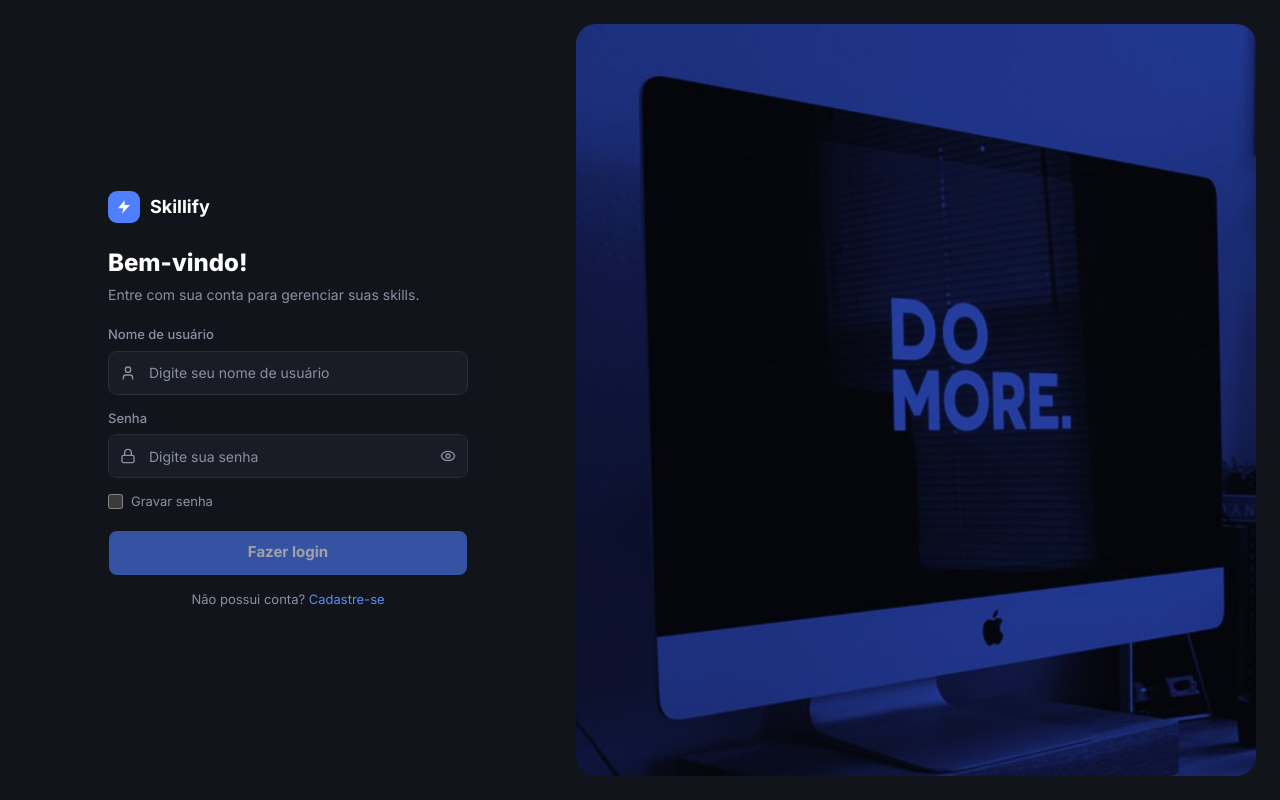
Scenario: Gestão de skills › exclui uma skill após confirmação
This screenshot has width=1280, height=800.
Type "joao" into the field with id "usuario" at (288, 373), box [108,351,468,395]
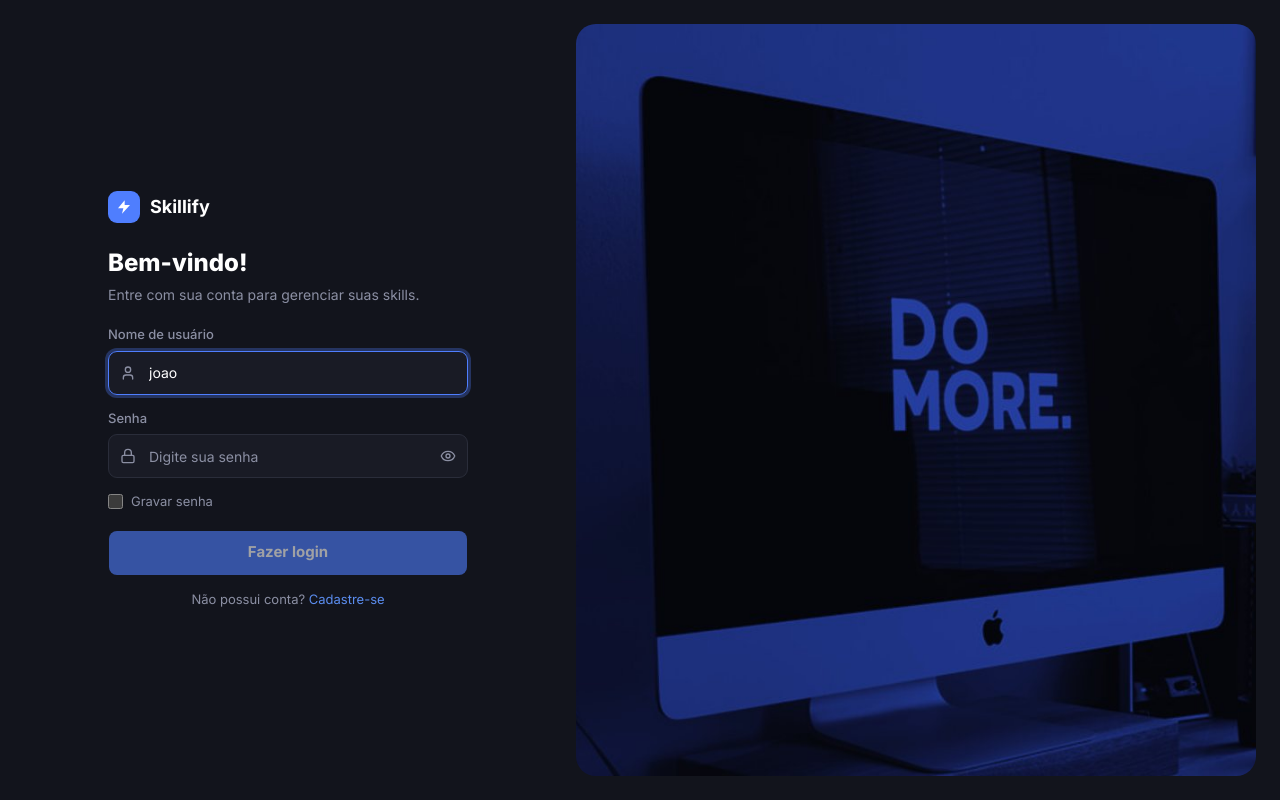
Type "1234" into the password field with id "senha" at (288, 456), box [108,434,468,478]
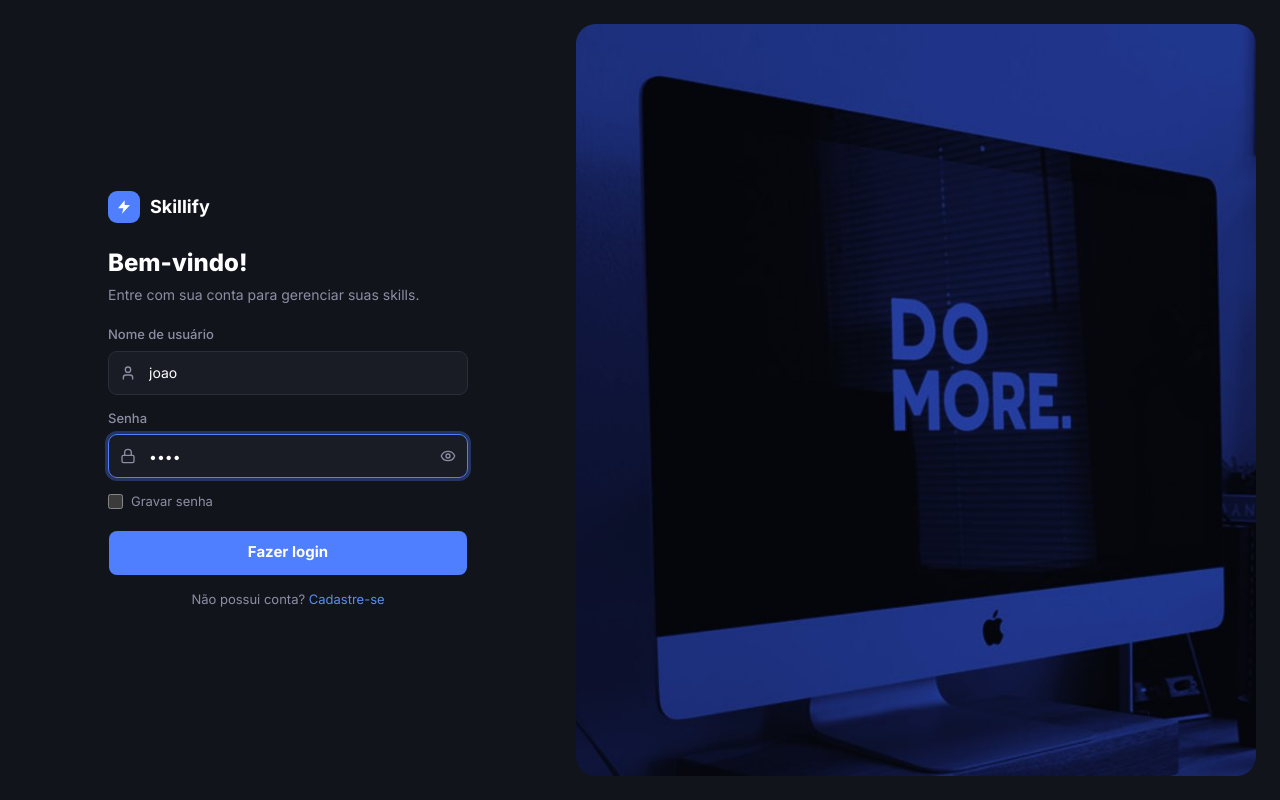
Click the button "Fazer login" at (288, 553), box [108,530,468,576]
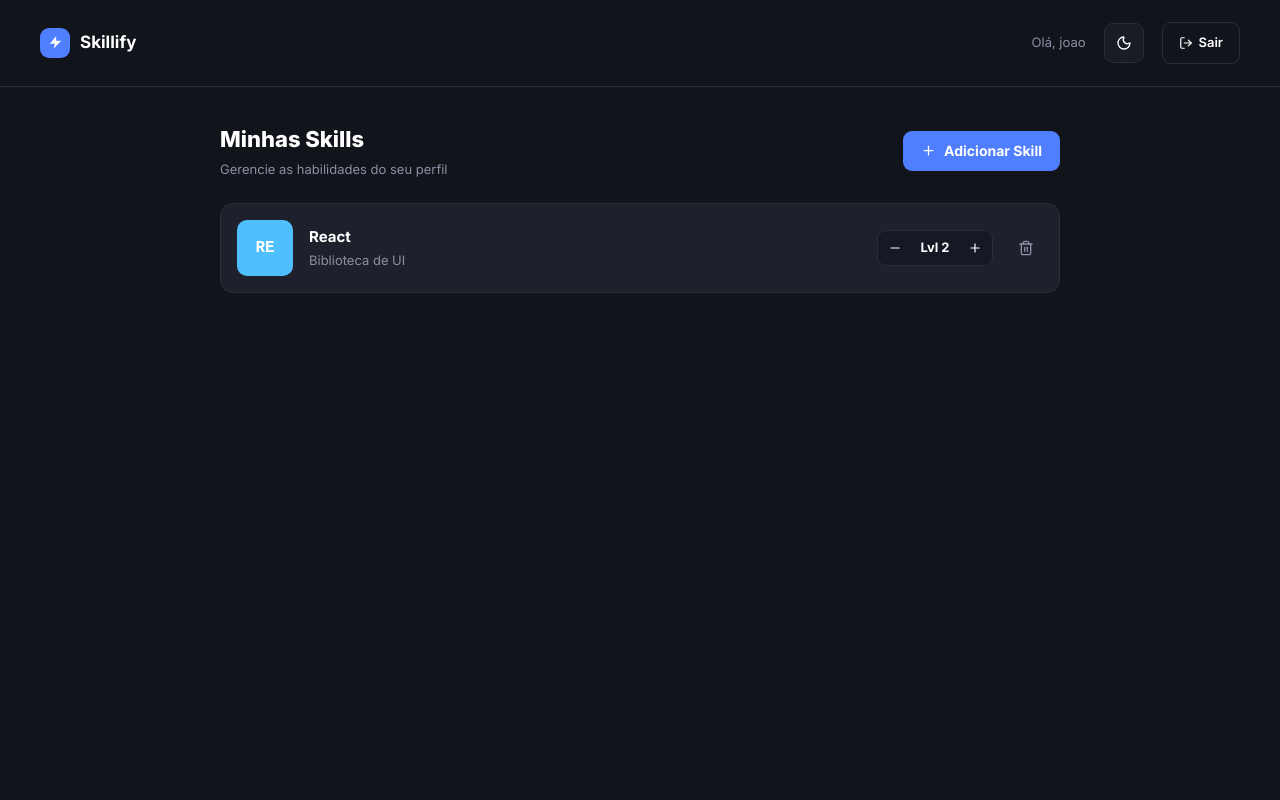
Now the text "React" is shown, box [309,227,351,246]
Click the button named "Excluir skill" at (1026, 248), box [1009,231,1043,265]
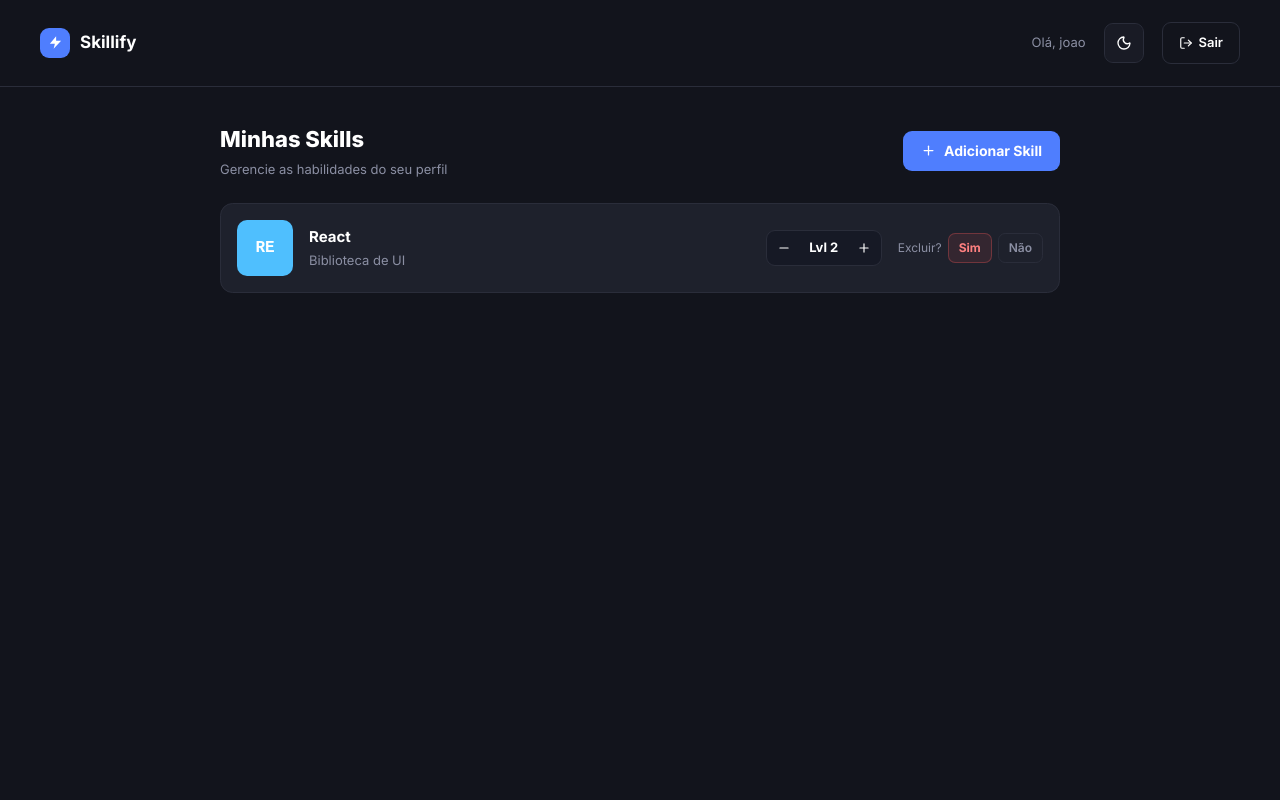
Click the button "Sim" at (970, 248), box [948,233,992,263]
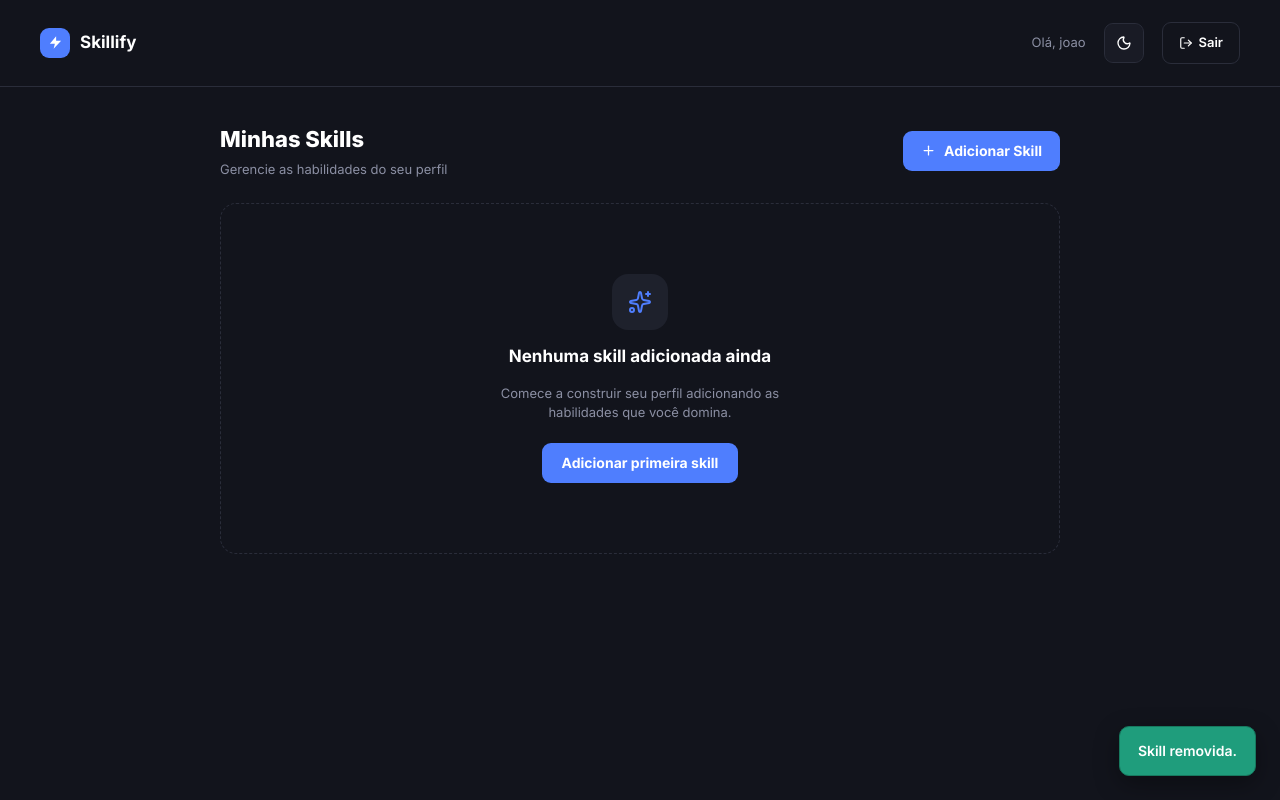
Now the text "Skill removida." is shown, box [1119,726,1256,776]
Now the text "React" is gone
